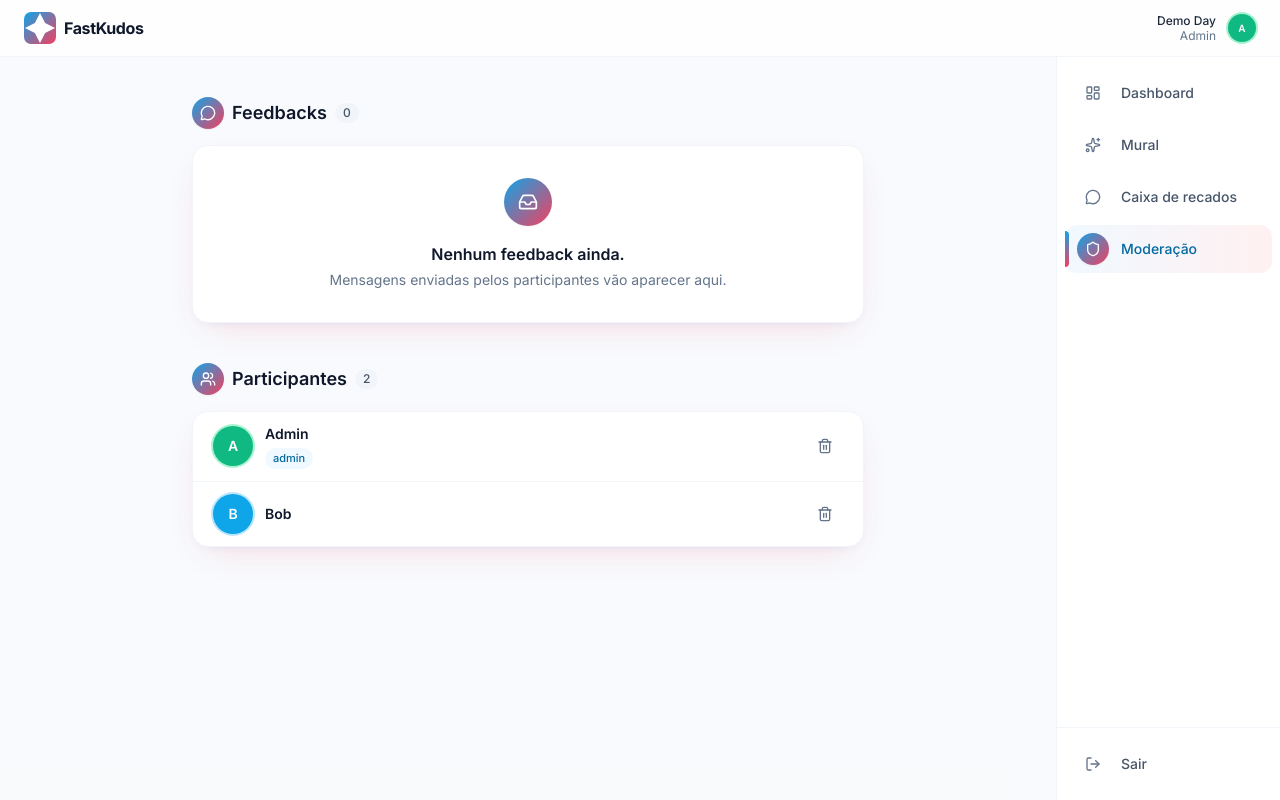
it: <EventModerationPage> › lista participantes e remove com o token do user logado
Check: the text "Bob" is shown, box [265,504,292,522]
Step 1. Click the button named "remover" in the row of "Bob" → {"x": 825, "y": 514}, box [807,496,843,532]
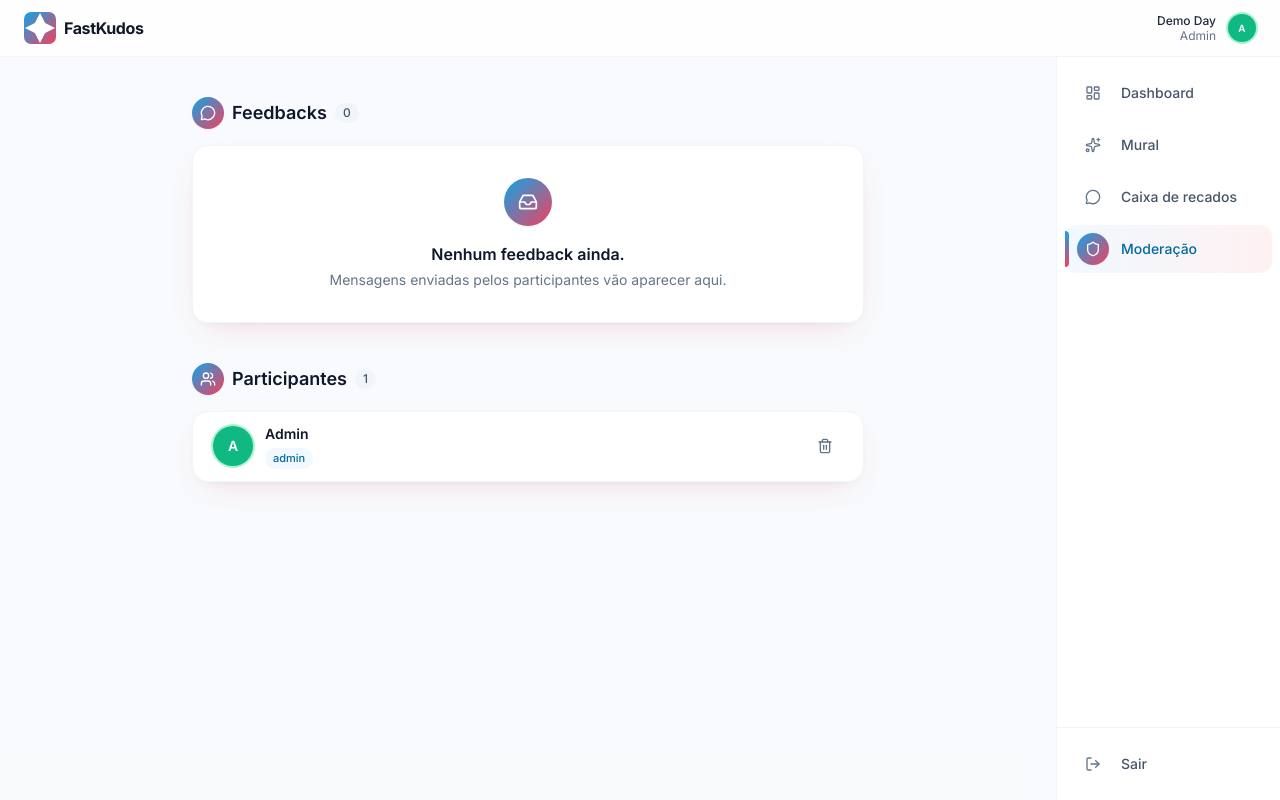
Check: the text "Bob" is gone
